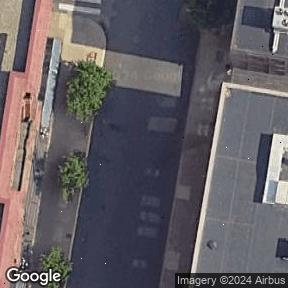vegetation: (55, 55, 118, 125), (35, 245, 74, 288), (59, 153, 87, 203)
